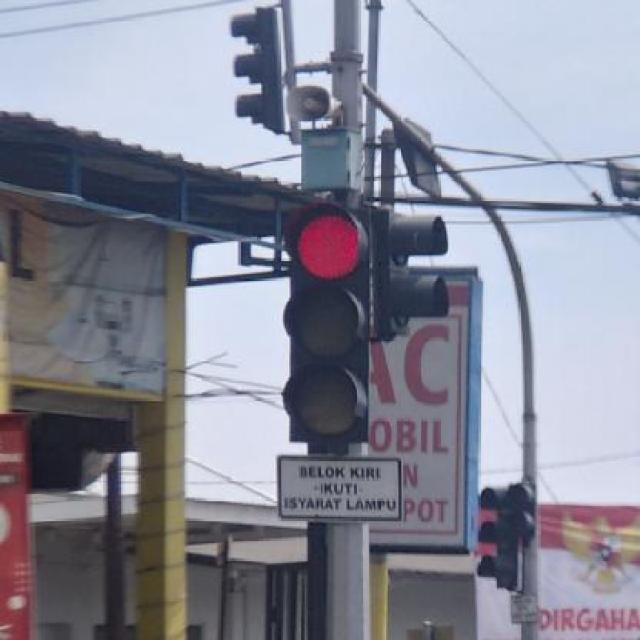traffic light: (290, 205, 371, 435)
